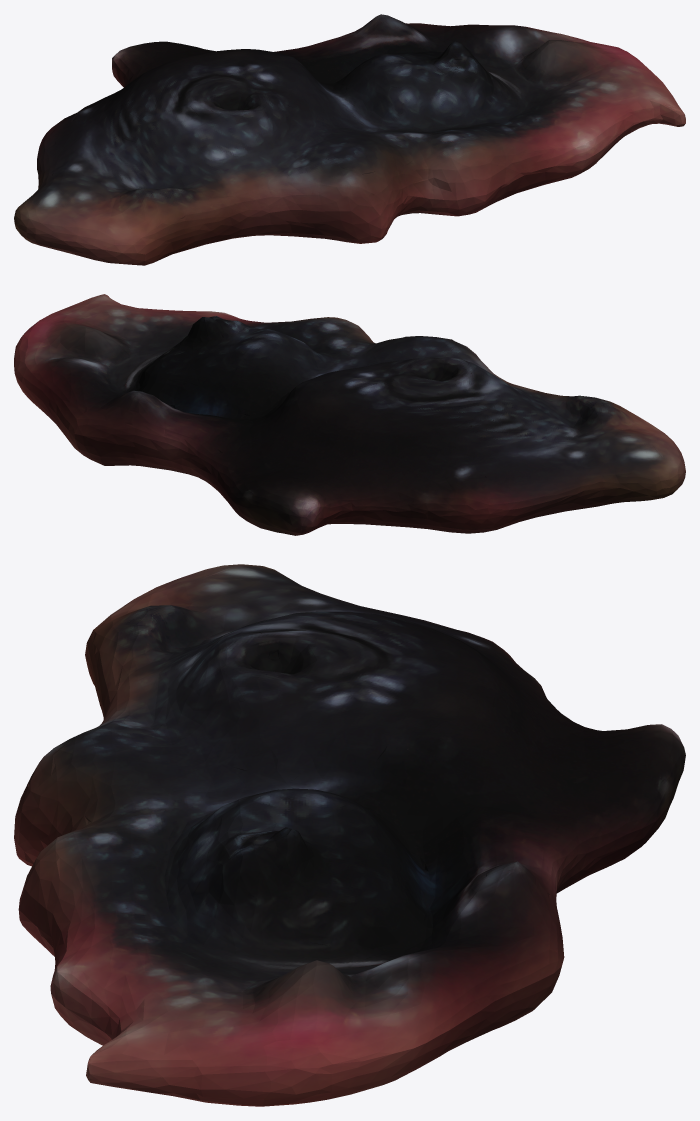
Rendered from melanocytic-nevi.glb.
The picture shows the model from 3 angles, top to bottom: view 1: azimuth 30°, elevation 25°; view 2: azimuth 150°, elevation 25°; view 3: azimuth 270°, elevation 25°; orthographic projection. The views are drawn at different scales.
Parts seen in each view (by area): view 1: world; view 2: world; view 3: world.
Boxes of the visible parts, x1=… form: world: x1=14, y1=14, x2=685, y2=265; world: x1=14, y1=294, x2=685, y2=535; world: x1=14, y1=564, x2=685, y2=1106.
Bounding box in the file's own units: 0.9991 × 0.202 × 0.5757.
Materials: 1 (1 with a texture image).
